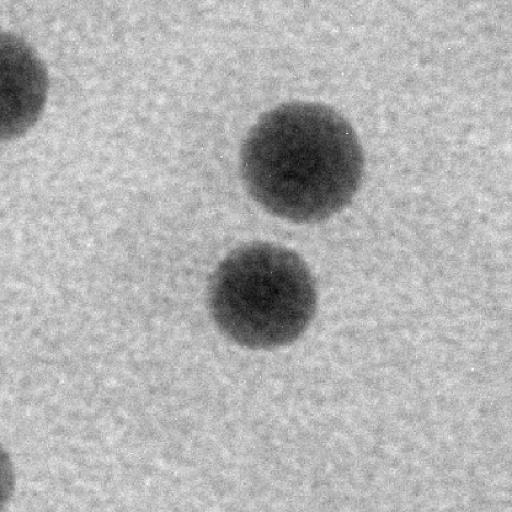Nanoparticles: (239, 101, 366, 226), (203, 238, 319, 350), (0, 27, 51, 141)
